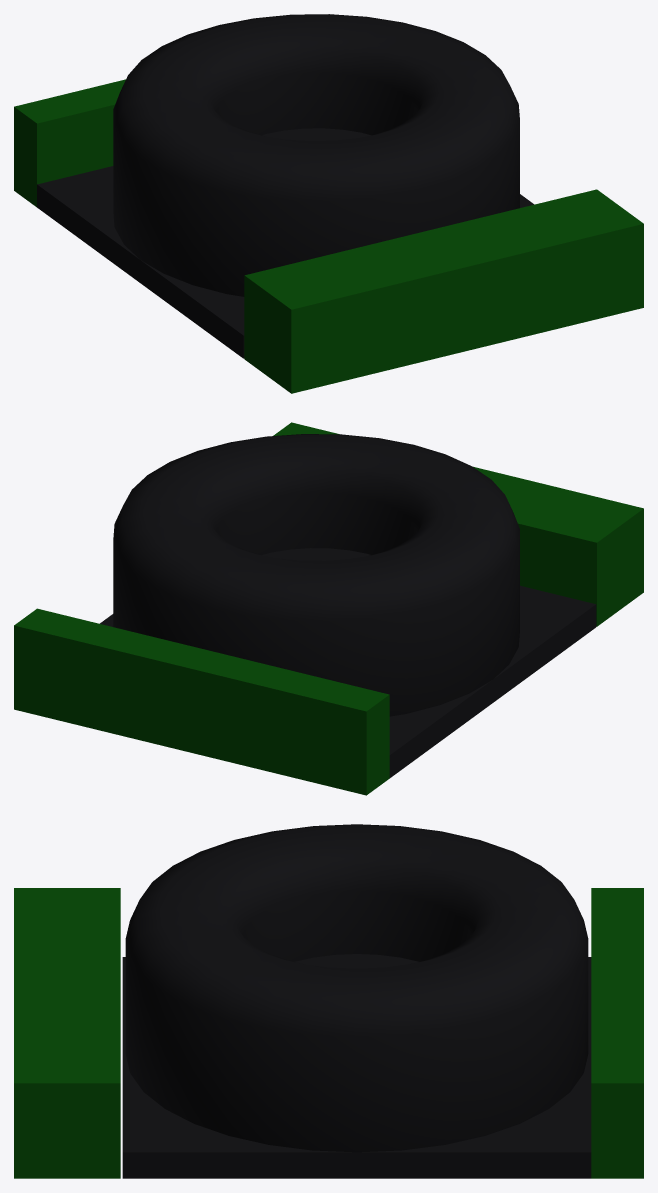
File: side_left.obj
The picture shows the model from 3 angles, top to bottom: view 1: azimuth 30°, elevation 25°; view 2: azimuth 150°, elevation 25°; view 3: azimuth 270°, elevation 25°; orthographic projection. The views are drawn at different scales.
Visible parts, largest first — view 1: Tires, Side_Left; view 2: Tires, Side_Left; view 3: Tires, Side_Left.
Boxes of the visible parts, x1,y1,x2,y2 form: Tires: (113,14,519,296); Side_Left: (14,79,643,393); Tires: (113,434,519,716); Side_Left: (14,422,643,795); Tires: (125,824,588,1152); Side_Left: (14,888,643,1178).
Size of the model in its own units: 0.4132 by 0.1722 by 0.5624.
